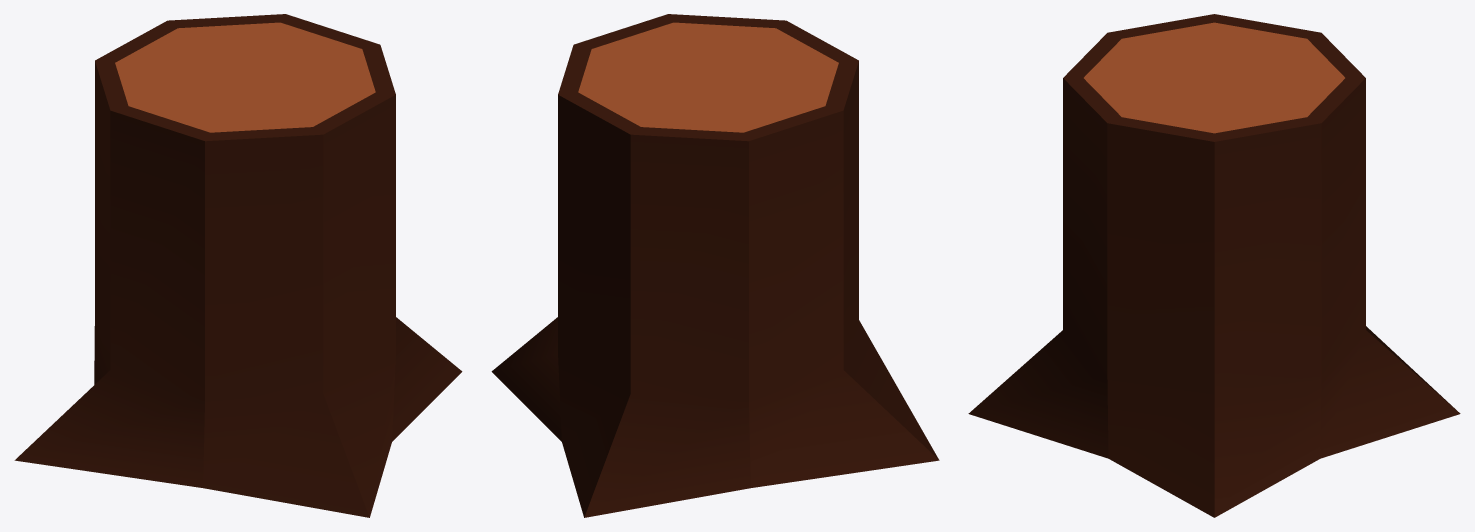
Rendered from F.tronco.fbx.
The picture shows the model from 3 angles, left to right: view 1: azimuth 30°, elevation 25°; view 2: azimuth 150°, elevation 25°; view 3: azimuth 270°, elevation 25°; orthographic projection. The views are drawn at different scales.
Parts seen in each view (by area): view 1: pasted__pCylinder4; view 2: pasted__pCylinder4; view 3: pasted__pCylinder4.
Part boxes in pixels (box(x1,y1,x2,y2)): pasted__pCylinder4: box(14, 14, 462, 517); pasted__pCylinder4: box(491, 14, 939, 517); pasted__pCylinder4: box(968, 14, 1460, 517).
Size of the model in its own units: 1.78 by 1.32 by 1.75.
